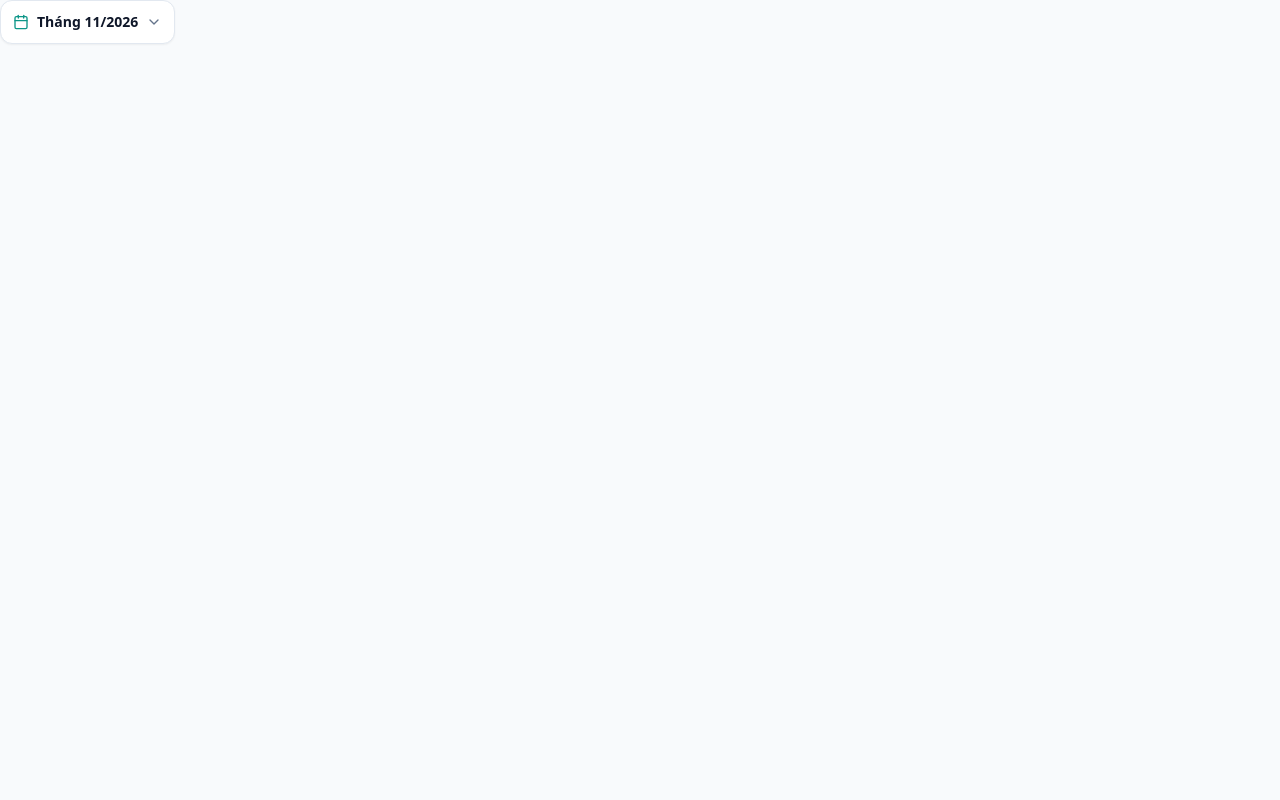
MonthSelector Component Test › nhấn vào nút sẽ mở MonthPickerSheet và cho phép chọn tháng mới
Later steps or results of the test are not shown.
Click the button with aria-label "chọn kỳ tháng xem" at (88, 22), box [0,0,175,44]
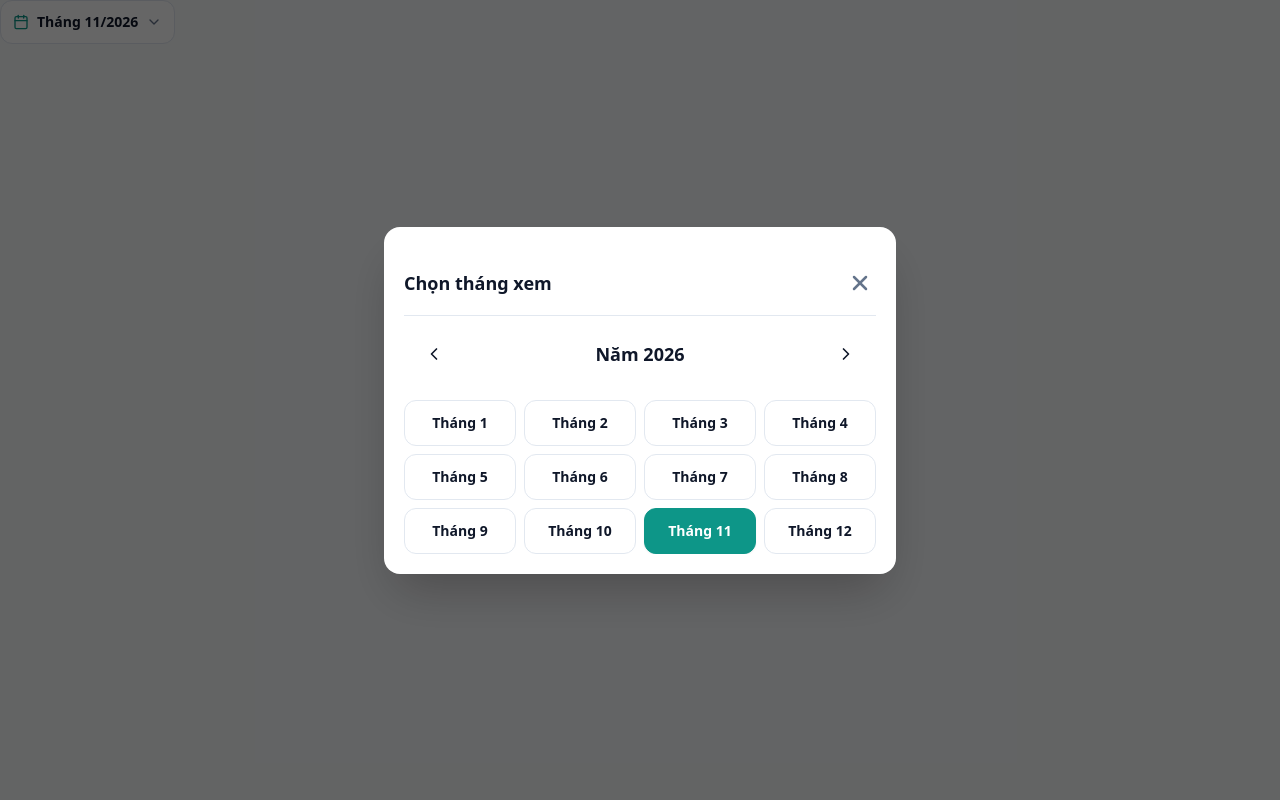
Expected: the heading "Chọn tháng xem" is shown, [404,268,552,296]
Expected: the text "Năm 2026" is shown, [596,340,685,368]
